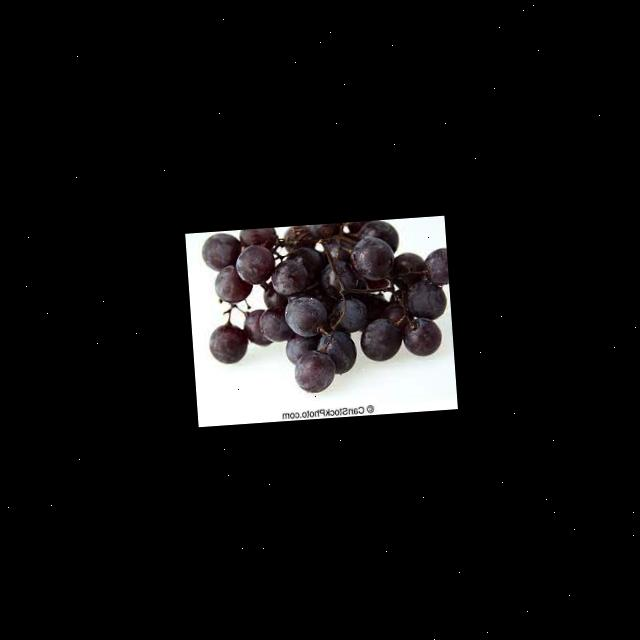grape: (198, 214, 454, 399)
